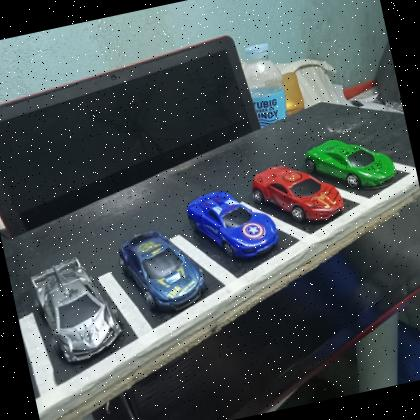Car: (26, 251, 126, 370), (113, 220, 210, 323), (184, 180, 283, 271), (248, 153, 348, 236), (299, 126, 399, 203)
